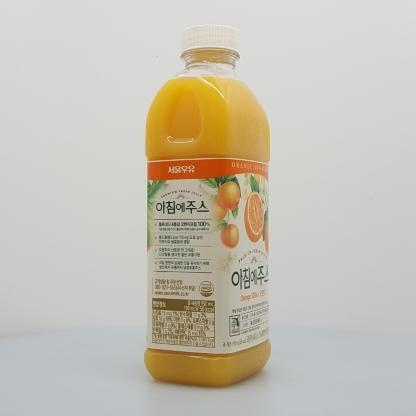----------950ML: (144, 24, 271, 388)
